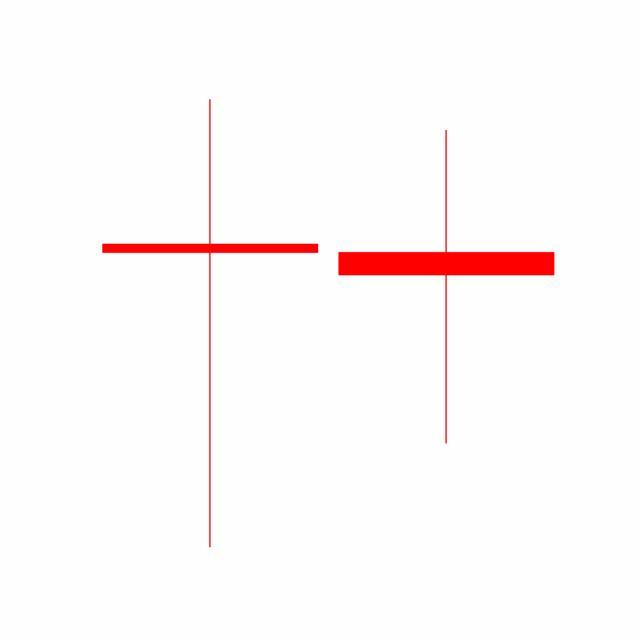Spinning Top: (328, 128, 566, 448)
